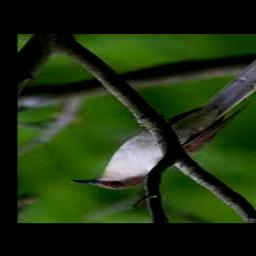Cuckoo: (70, 47, 256, 189)
